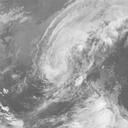cyclone: (38, 26, 94, 99)
